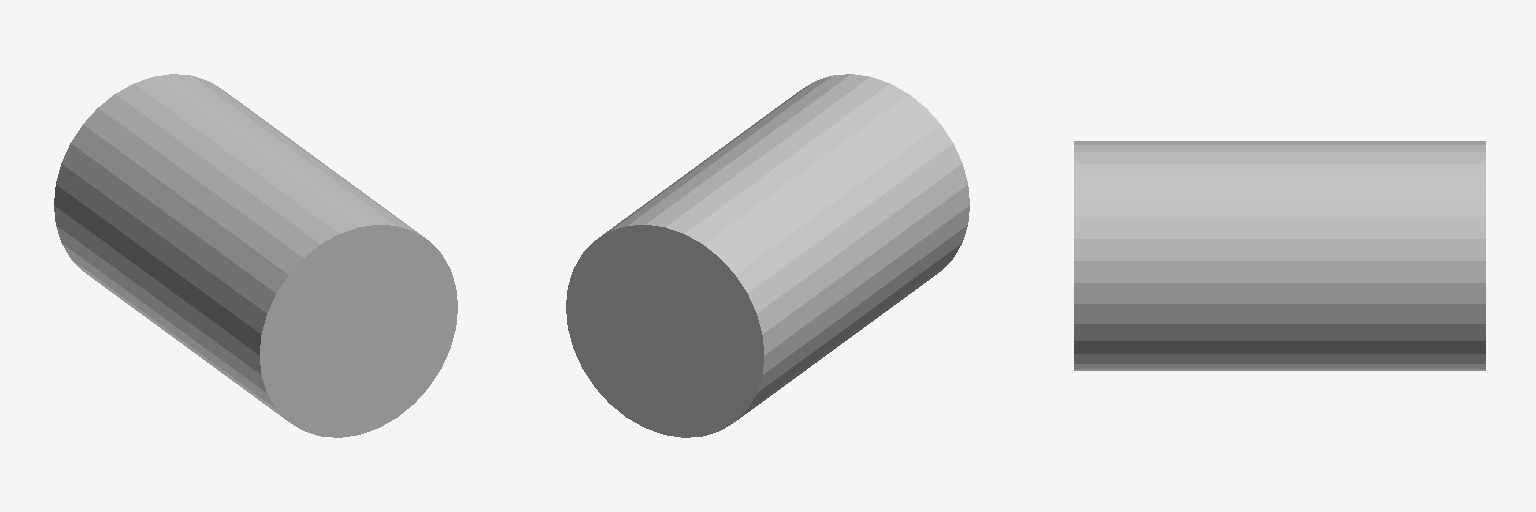
Rendered from razer.obj.
3 views of the same model, side by side, from view 1: azimuth 30°, elevation 25°; view 2: azimuth 150°, elevation 25°; view 3: azimuth 270°, elevation 25° (orthographic).
Visible parts, largest first — view 1: 円柱; view 2: 円柱; view 3: 円柱.
Part boxes in pixels (bbox=[...]): 円柱: bbox=[54, 74, 457, 437]; 円柱: bbox=[566, 74, 969, 437]; 円柱: bbox=[1074, 141, 1485, 370].
Size of the model in its own units: 0.408 by 0.408 by 0.732.